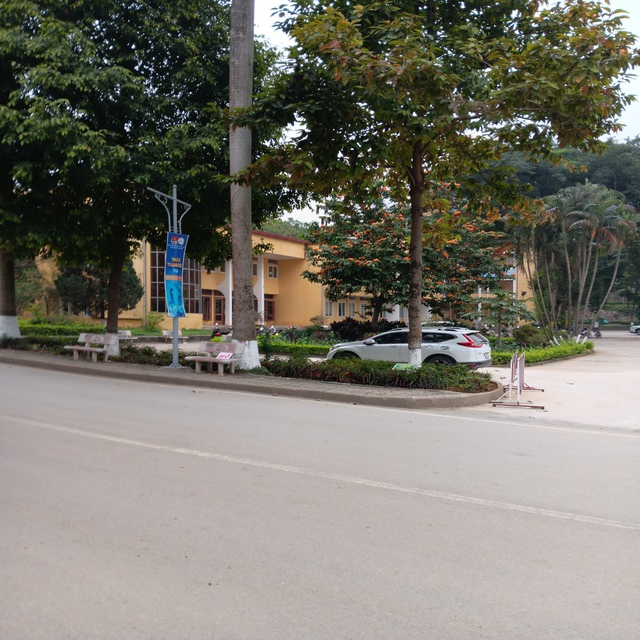gheda: (189, 336, 246, 389), (59, 326, 121, 366)
